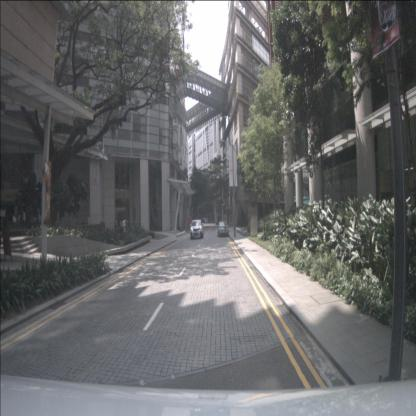human-pedestrian-adult: (114, 217, 118, 234), (119, 218, 123, 234), (122, 218, 126, 234)
vehicle-car: (190, 220, 204, 239), (218, 221, 229, 237)
